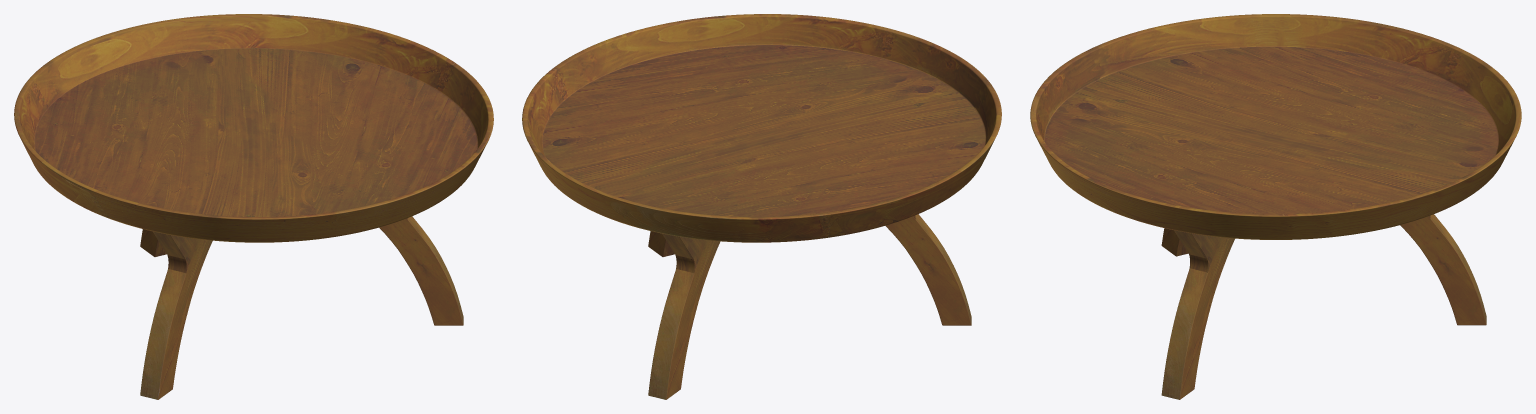
The model's file is abo_B07QD9BBRW.glb.
3 renders of one model, left to right at view 1: azimuth 30°, elevation 25°; view 2: azimuth 150°, elevation 25°; view 3: azimuth 270°, elevation 25°, orthographic.
Parts seen in each view (by area): view 1: B07QD9BBRW; view 2: B07QD9BBRW; view 3: B07QD9BBRW.
Part boxes in pixels (box(x1,y1,x2,y2)): B07QD9BBRW: box(14, 14, 493, 399); B07QD9BBRW: box(522, 14, 1001, 399); B07QD9BBRW: box(1030, 14, 1521, 399).
Size of the model in its own units: 0.9906 by 0.4699 by 1.02.
Materials: 1 (1 with a texture image).
